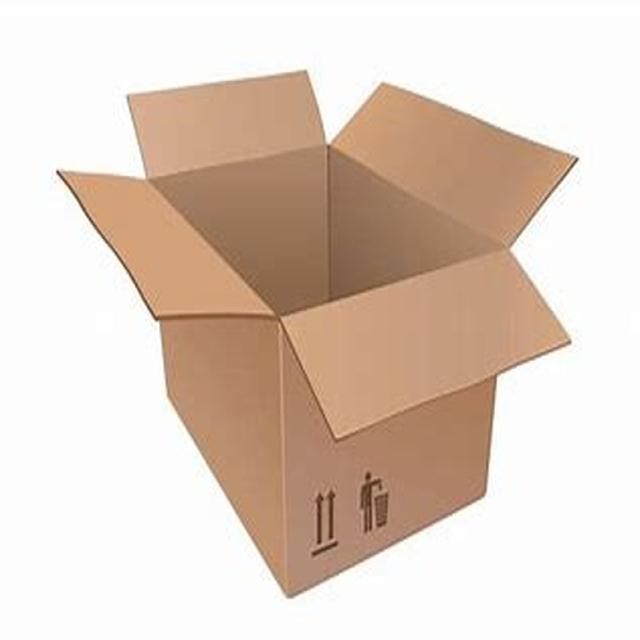box: (69, 44, 585, 579)
